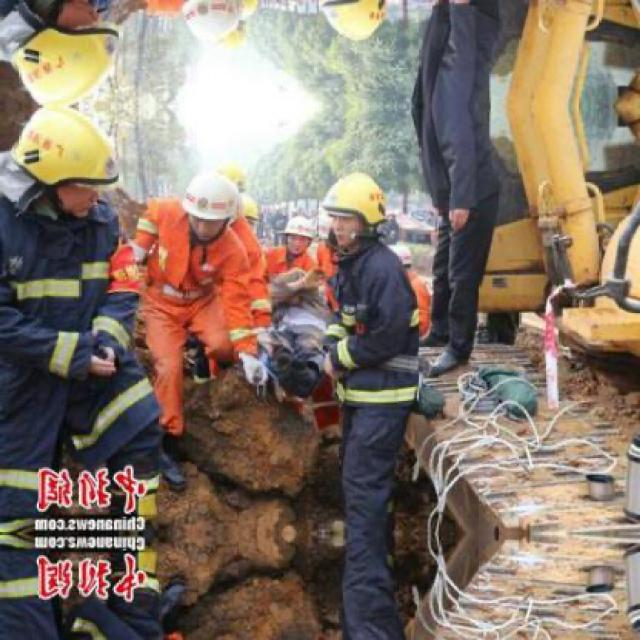helmet: (8, 110, 124, 223), (6, 0, 125, 105), (317, 170, 391, 250), (180, 168, 245, 241), (315, 0, 391, 45), (179, 0, 245, 46), (280, 213, 318, 254)
